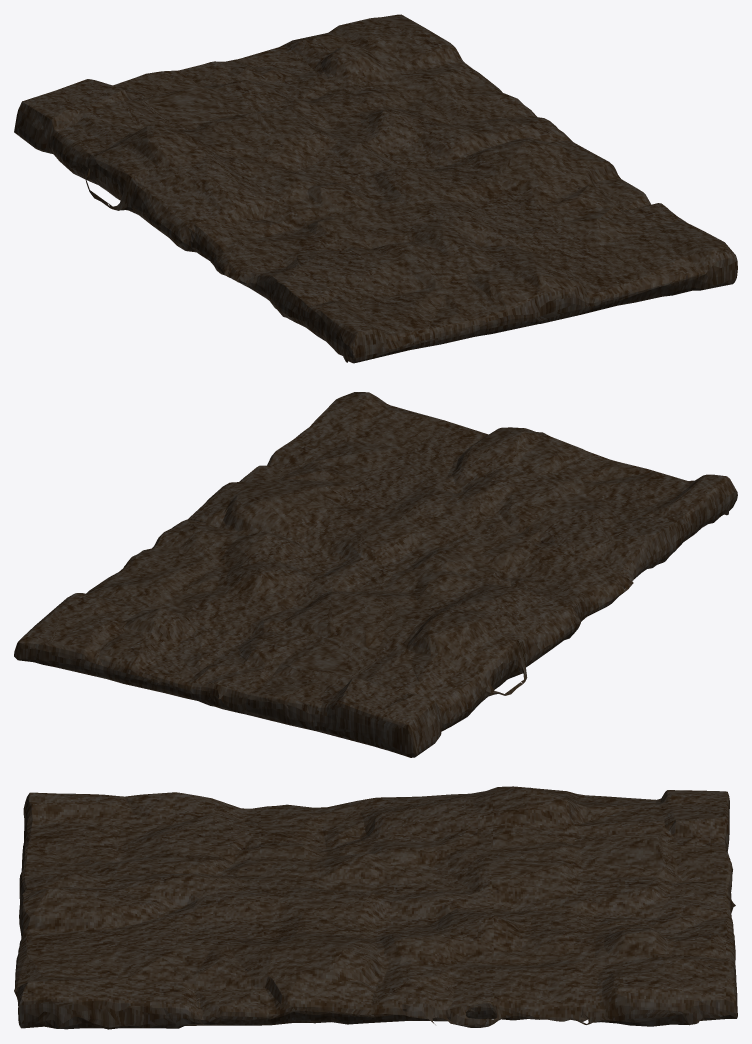
Rendered from cave-floor1_bkp1.glb.
3 renders of one model, top to bottom at view 1: azimuth 30°, elevation 25°; view 2: azimuth 150°, elevation 25°; view 3: azimuth 270°, elevation 25°, orthographic. The views are drawn at different scales.
Visible parts, largest first — view 1: Cube.001; view 2: Cube.001; view 3: Cube.001.
Boxes of the visible parts, bbox=[...] form: Cube.001: bbox=[14, 14, 737, 363]; Cube.001: bbox=[14, 392, 737, 757]; Cube.001: bbox=[14, 786, 737, 1029].
Size of the model in its own units: 8.39 by 1.1 by 12.
1 material, 1 textured.
